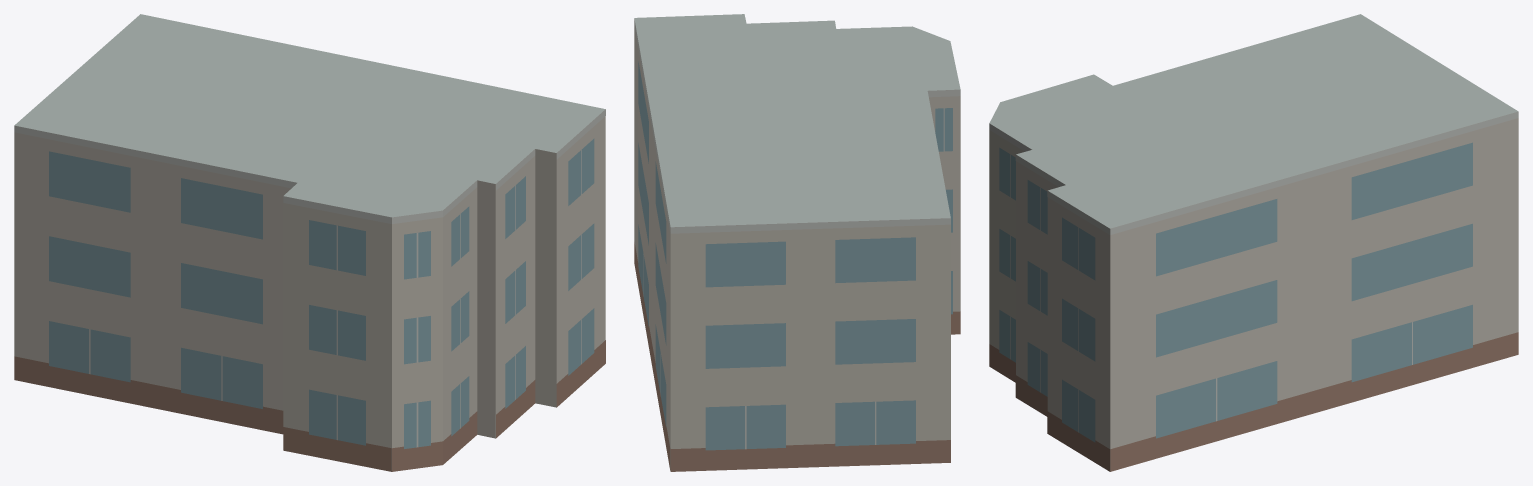
The model's file is survey-upis-32943671.glb.
3 renders of one model, left to right at view 1: azimuth 30°, elevation 25°; view 2: azimuth 150°, elevation 25°; view 3: azimuth 270°, elevation 25°, orthographic. The views are drawn at different scales.
Visible parts, largest first — view 1: survey-upis-32943671.tmp; view 2: survey-upis-32943671.tmp; view 3: survey-upis-32943671.tmp.
Boxes of the visible parts, bbox=[...] form: survey-upis-32943671.tmp: bbox=[14, 14, 605, 471]; survey-upis-32943671.tmp: bbox=[634, 14, 960, 471]; survey-upis-32943671.tmp: bbox=[989, 14, 1518, 471].
Bounding box in the file's own units: 17.33 × 9.15 × 18.06.
